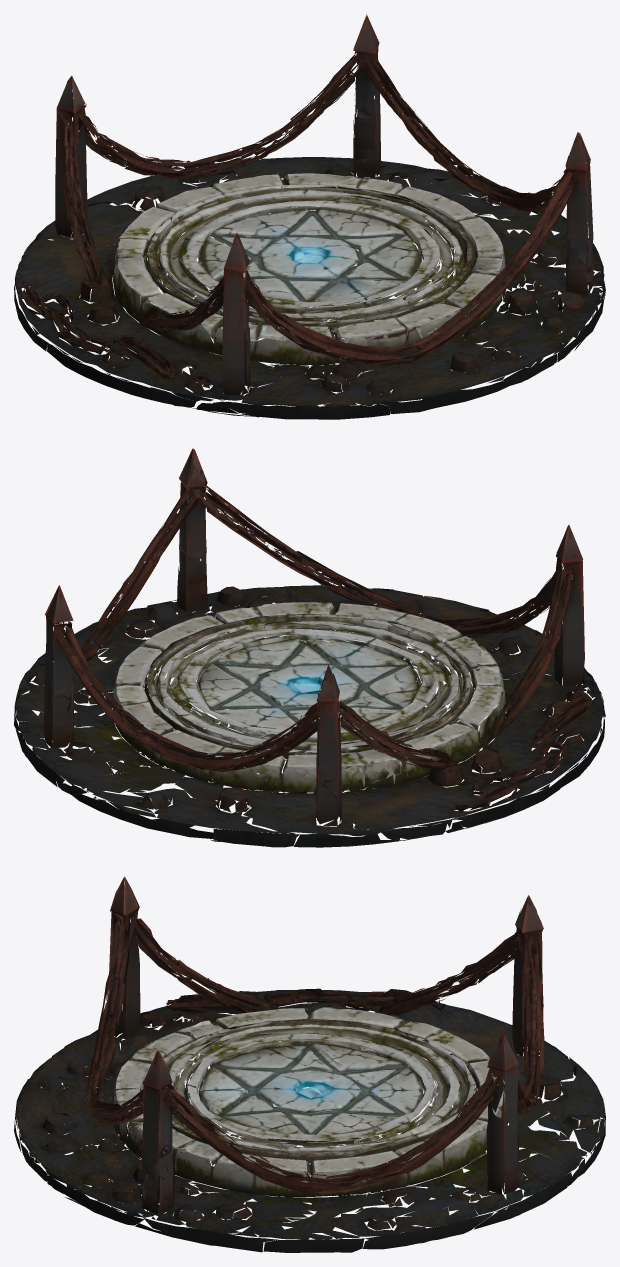
The model's file is ritual-circle.glb.
The picture shows the model from 3 angles, top to bottom: view 1: azimuth 30°, elevation 25°; view 2: azimuth 150°, elevation 25°; view 3: azimuth 270°, elevation 25°; orthographic projection.
Parts seen in each view (by area): view 1: material; view 2: material; view 3: material.
Boxes of the visible parts, bbox=[...] form: material: bbox=[14, 14, 605, 419]; material: bbox=[14, 448, 605, 847]; material: bbox=[14, 876, 605, 1252].
Size of the model in its own units: 1.14 by 0.3656 by 1.14.
1 material, 1 textured.
